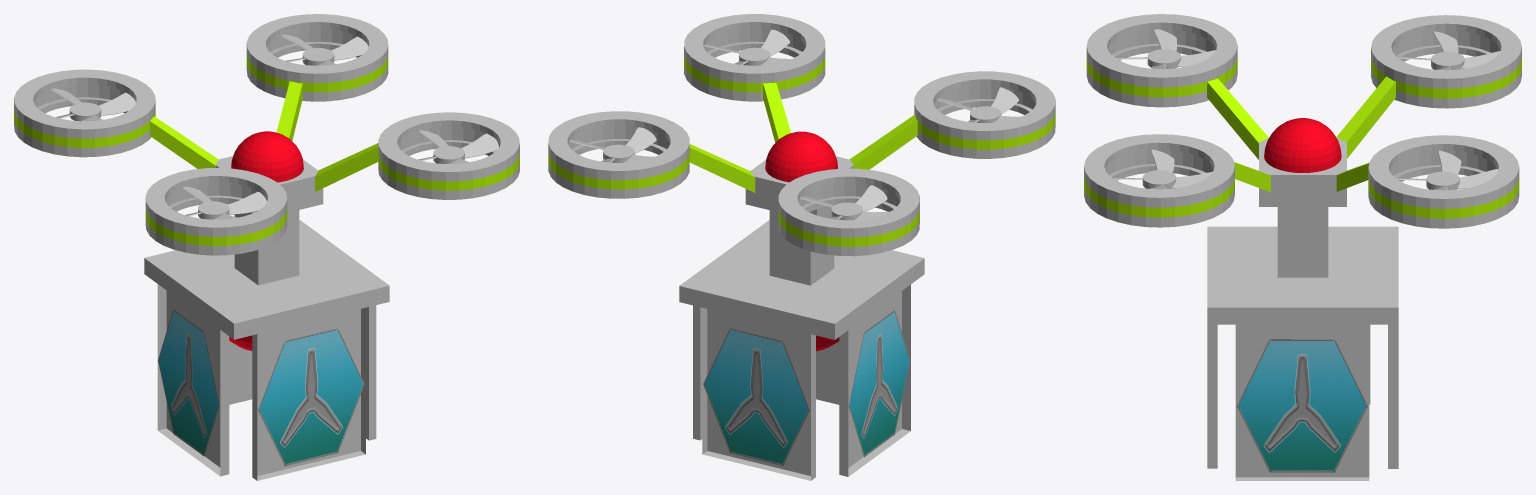
The model's file is Drone.fbx.
3 renders of one model, left to right at view 1: azimuth 30°, elevation 25°; view 2: azimuth 150°, elevation 25°; view 3: azimuth 270°, elevation 25°, orthographic. The views are drawn at different scales.
Parts seen in each view (by area): view 1: Drone, Fan Blade 3, Fan Blade 4, Fan Blade, Fan Blade 2; view 2: Drone, Fan Blade, Fan Blade 2, Fan Blade 4, Fan Blade 3; view 3: Drone, Fan Blade 2, Fan Blade 3, Fan Blade 4, Fan Blade.
Boxes of the visible parts, x1,y1,x2,y2 form: Drone: [14, 14, 519, 480]; Fan Blade 3: [182, 186, 266, 219]; Fan Blade 4: [418, 130, 498, 163]; Fan Blade: [50, 88, 135, 121]; Fan Blade 2: [280, 34, 368, 65]; Drone: [548, 14, 1055, 480]; Fan Blade: [799, 185, 889, 220]; Fan Blade 2: [569, 127, 656, 162]; Fan Blade 4: [704, 29, 790, 65]; Fan Blade 3: [937, 87, 1020, 122]; Drone: [1084, 14, 1521, 480]; Fan Blade 2: [1395, 150, 1498, 190]; Fan Blade 3: [1115, 29, 1215, 68]; Fan Blade 4: [1112, 149, 1212, 189]; Fan Blade: [1396, 31, 1500, 70].
Bounding box in the file's own units: 998 × 840 × 998.
